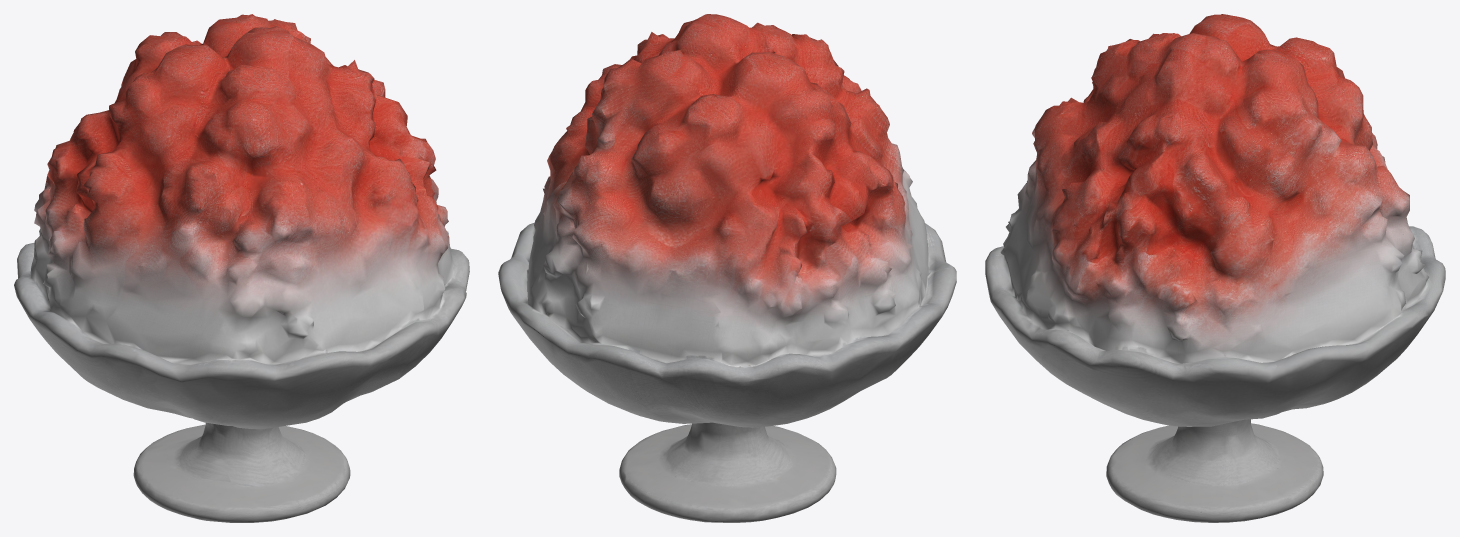
The picture shows the model from 3 angles, left to right: view 1: azimuth 30°, elevation 25°; view 2: azimuth 150°, elevation 25°; view 3: azimuth 270°, elevation 25°; orthographic projection.
Parts seen in each view (by area): view 1: tripo_node_a739e35e-2a27-4152-835b-5e52965968d0; view 2: tripo_node_a739e35e-2a27-4152-835b-5e52965968d0; view 3: tripo_node_a739e35e-2a27-4152-835b-5e52965968d0.
Boxes of the visible parts, left/top/right/bottom form: tripo_node_a739e35e-2a27-4152-835b-5e52965968d0: left=14, top=14, right=469, bottom=522; tripo_node_a739e35e-2a27-4152-835b-5e52965968d0: left=498, top=14, right=956, bottom=522; tripo_node_a739e35e-2a27-4152-835b-5e52965968d0: left=985, top=14, right=1445, bottom=522.
Size of the model in its own units: 0.9244 by 1 by 0.9238.
1 material, 1 textured.
